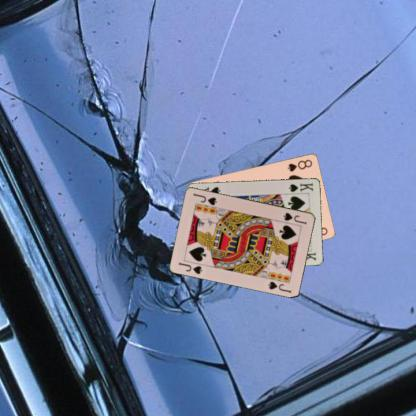8s: (285, 156, 314, 172)
Js: (176, 259, 204, 275), (281, 210, 308, 226)
Ks: (286, 180, 314, 193)
